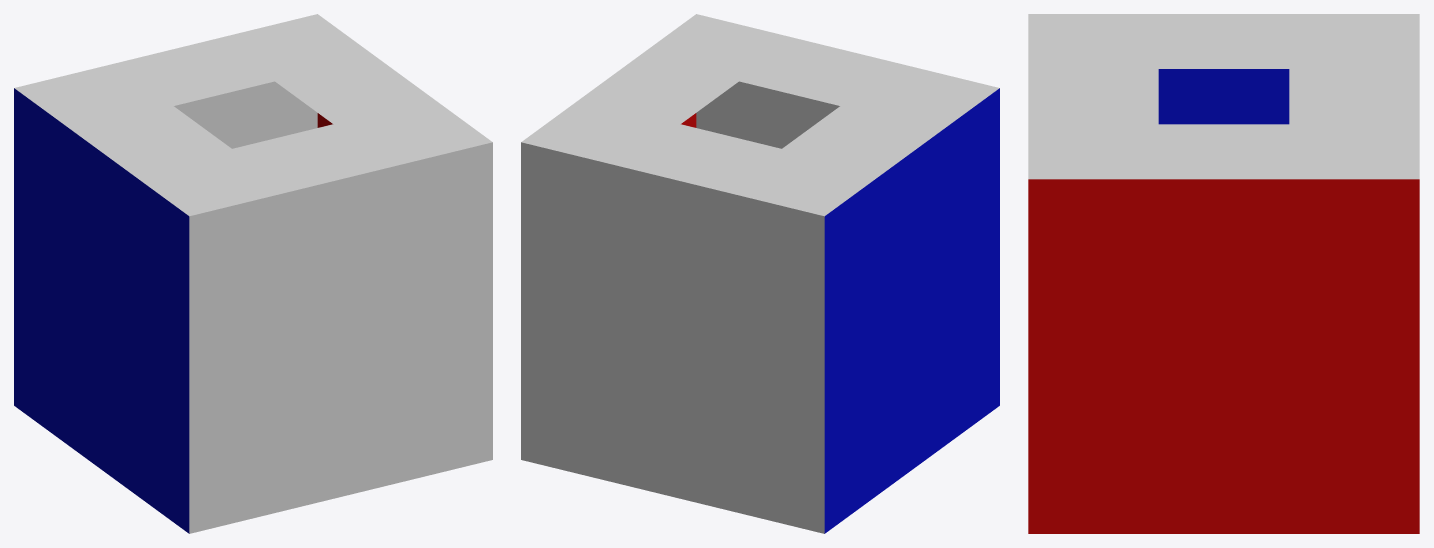
File: box_hole.fbx
3 renders of one model, left to right at view 1: azimuth 30°, elevation 25°; view 2: azimuth 150°, elevation 25°; view 3: azimuth 270°, elevation 25°, orthographic. The views are drawn at different scales.
Visible parts, largest first — view 1: pCube2; view 2: pCube2; view 3: pCube2.
Part boxes in pixels (box(x1,y1,x2,y2)): pCube2: box(14, 14, 492, 533); pCube2: box(521, 14, 999, 533); pCube2: box(1028, 14, 1419, 533).
Size of the model in its own units: 10 by 10 by 10.
